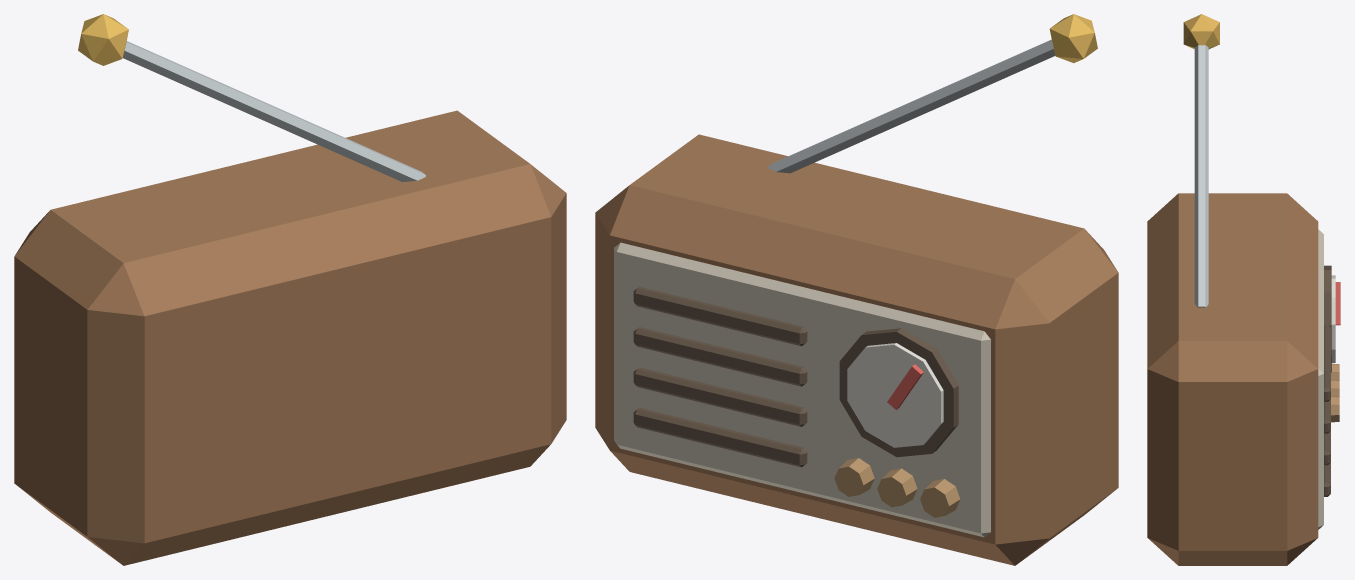
The model's file is BUILD0031_AnalogRadio.fbx.
3 renders of one model, left to right at view 1: azimuth 30°, elevation 25°; view 2: azimuth 150°, elevation 25°; view 3: azimuth 270°, elevation 25°, orthographic. The views are drawn at different scales.
Parts seen in each view (by area): view 1: BUILD0031_AnalogRadio; view 2: BUILD0031_AnalogRadio; view 3: BUILD0031_AnalogRadio.
Part boxes in pixels (x1,y1,x2,y2): BUILD0031_AnalogRadio: (14,14,566,565); BUILD0031_AnalogRadio: (595,14,1118,565); BUILD0031_AnalogRadio: (1147,14,1340,565).
Bounding box in the file's own units: 1.06 × 1.14 × 0.4975.
